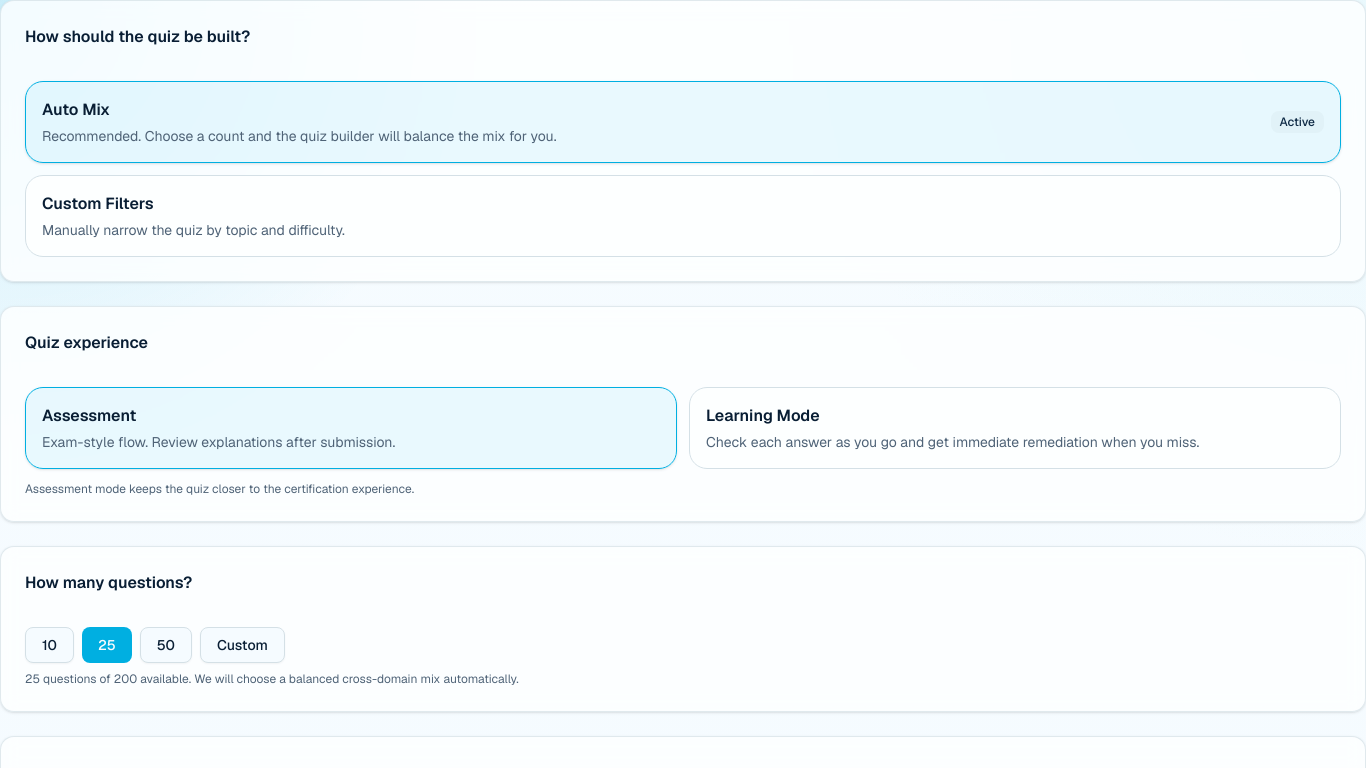
Test: QuizConfigForm › shows learning mode description when Learning Mode is selected
The image size is (1366, 768).
Click the button "Learning Mode": (763, 416) [689, 387, 1341, 469]
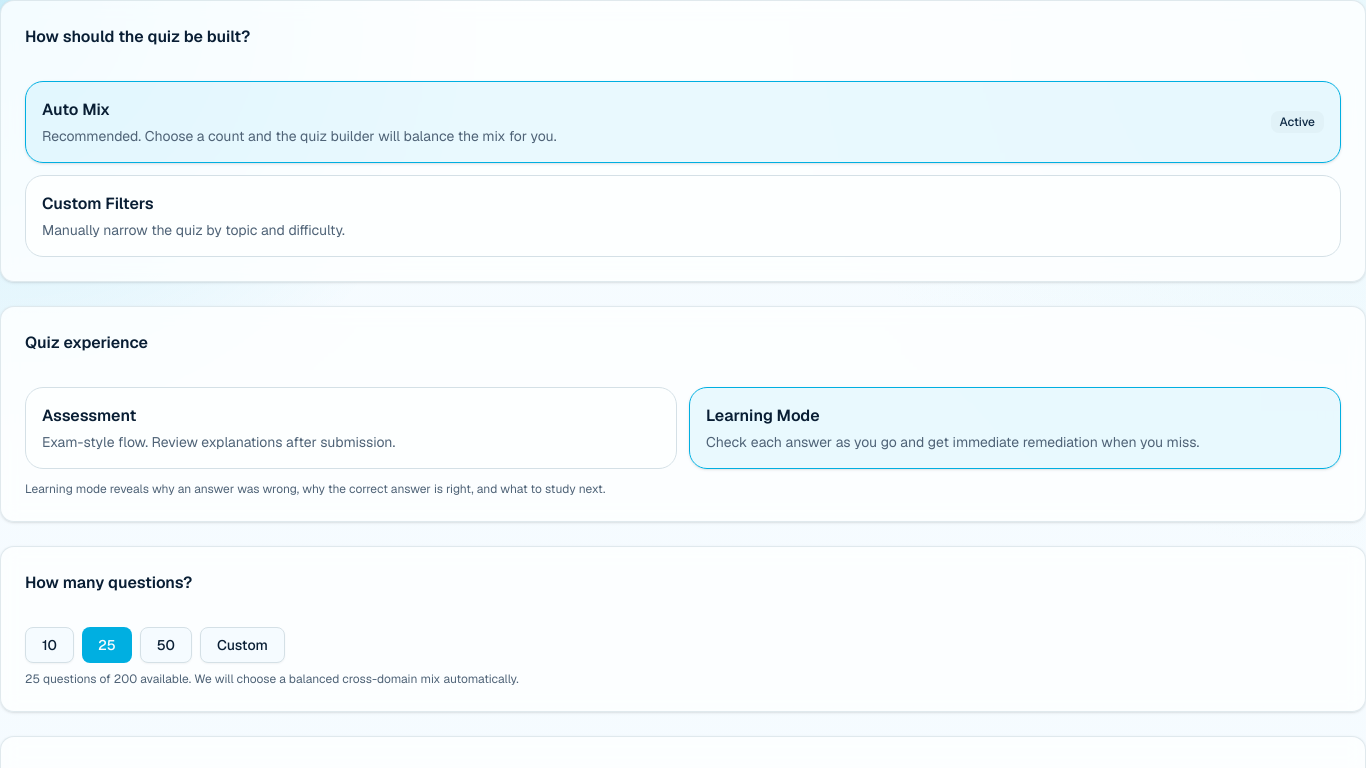
Check: the text "Learning mode reveals why an answer was wrong" is shown, box [25, 481, 606, 497]
